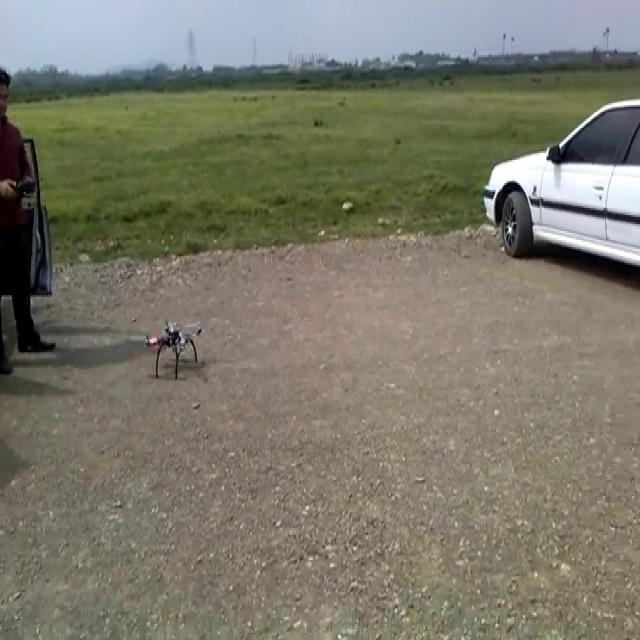drone: (142, 314, 203, 380)
